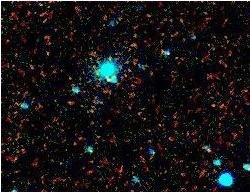star: (94, 65, 124, 95)
